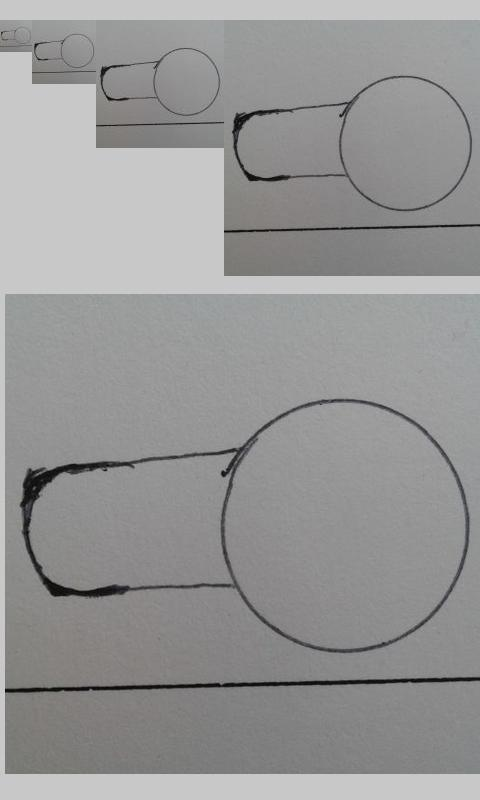switch: (20, 397, 470, 655), (232, 74, 473, 212), (100, 47, 222, 117), (33, 33, 95, 69), (1, 26, 31, 45)
